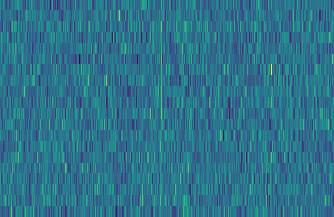signal: (156, 0, 166, 217)
